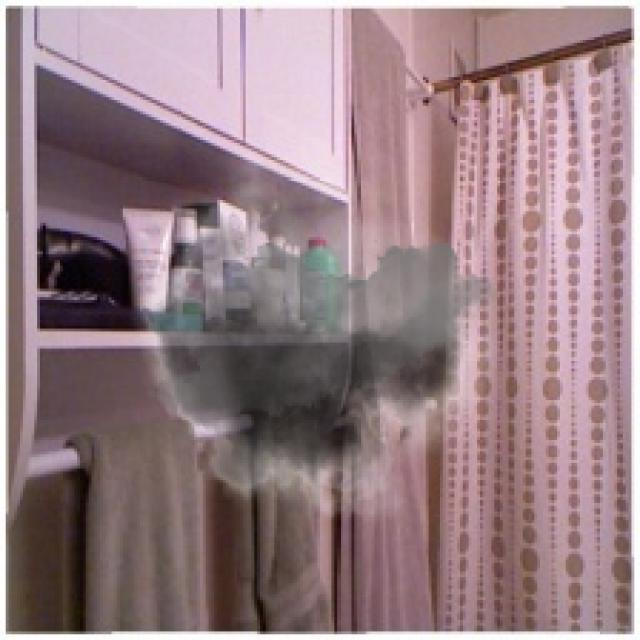smoke: (114, 134, 497, 540)
